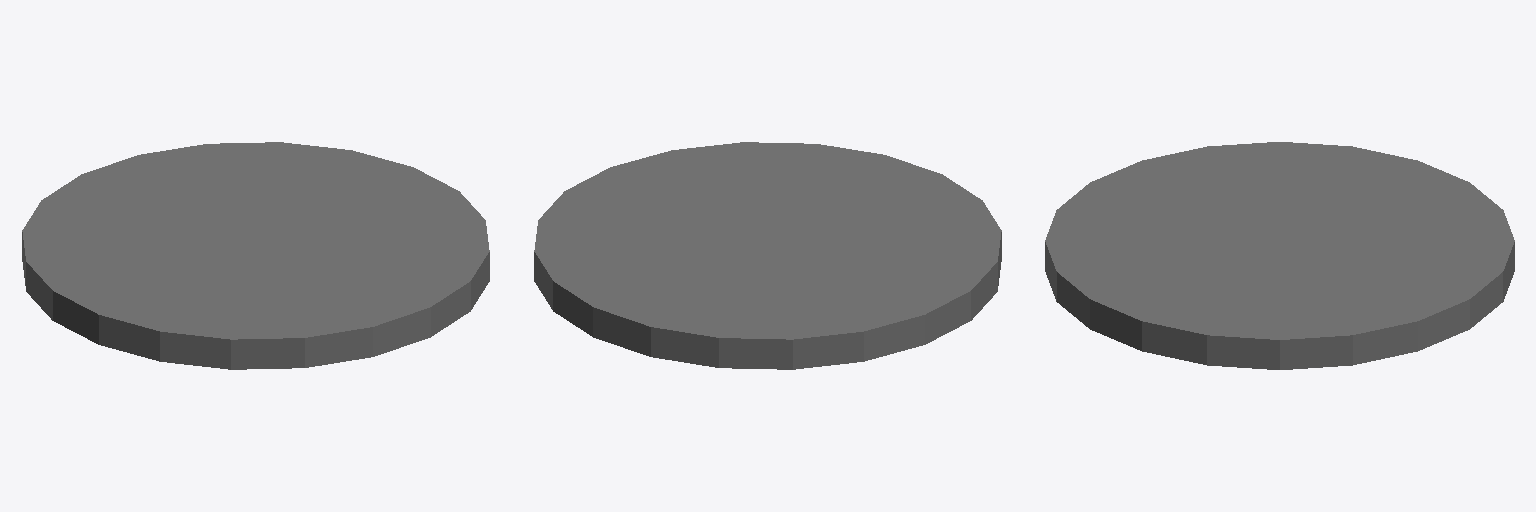
The model's file is money_test.obj.
3 renders of one model, left to right at view 1: azimuth 30°, elevation 25°; view 2: azimuth 150°, elevation 25°; view 3: azimuth 270°, elevation 25°, orthographic.
Size of the model in its own units: 8.27 by 0.5865 by 8.27.